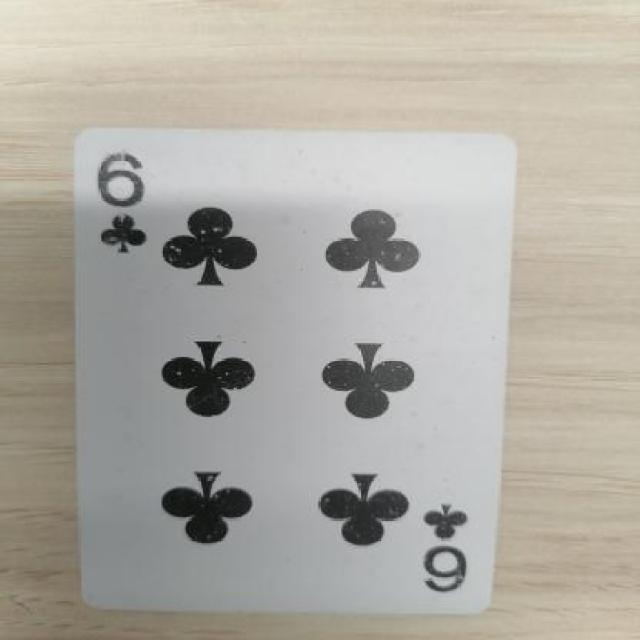6C: (86, 144, 174, 267), (426, 492, 492, 603)
